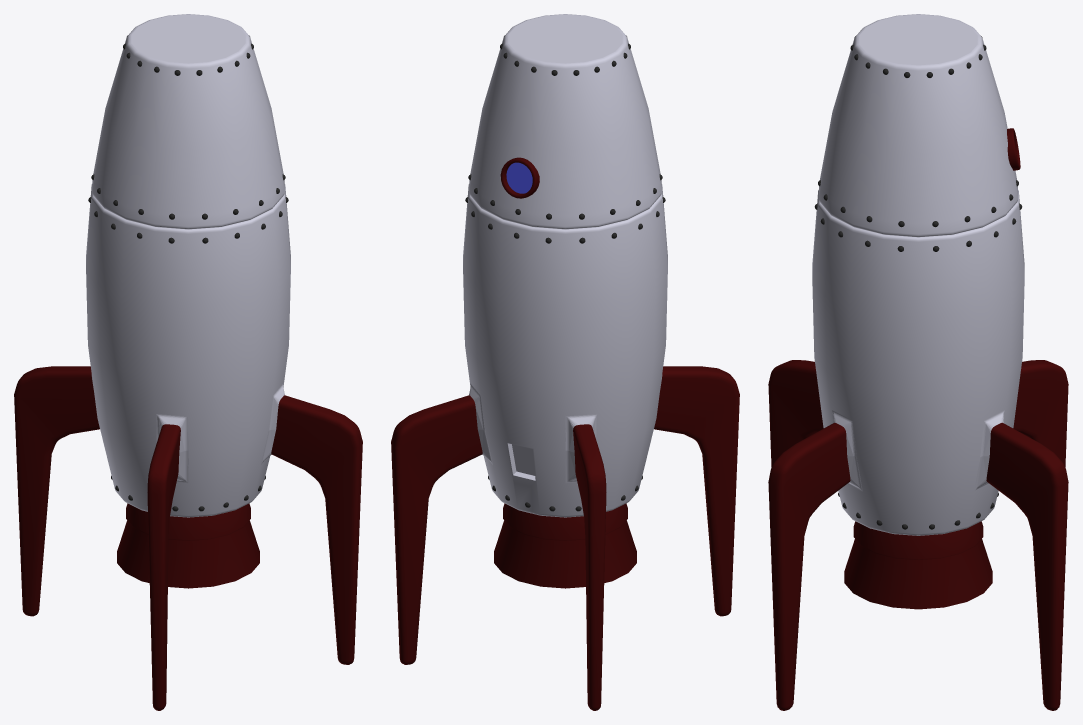
Rendered from Cohete_Tocho.fbx.
3 renders of one model, left to right at view 1: azimuth 30°, elevation 25°; view 2: azimuth 150°, elevation 25°; view 3: azimuth 270°, elevation 25°, orthographic. The views are drawn at different scales.
Visible parts, largest first — view 1: SM_Cohete_Cuerpo_001, SM_Cohete_Cuerpo_002, SM_Patitas_Cohete_001, SM_Eyector_Cohete_001, SM_Patitas_Cohete_Enganches_001; view 2: SM_Cohete_Cuerpo_001, SM_Cohete_Cuerpo_002, SM_Patitas_Cohete_001, SM_Eyector_Cohete_001, SM_Patitas_Cohete_Enganches_001, SM_Ventana_Marco_001, SM_Ventana_Cristal; view 3: SM_Cohete_Cuerpo_001, SM_Cohete_Cuerpo_002, SM_Patitas_Cohete_001, SM_Eyector_Cohete_001, SM_Patitas_Cohete_Enganches_001.
Boxes of the visible parts, x1,y1,x2,y2 form: SM_Cohete_Cuerpo_001: (86, 184, 290, 517); SM_Cohete_Cuerpo_002: (92, 14, 284, 229); SM_Patitas_Cohete_001: (14, 366, 362, 710); SM_Eyector_Cohete_001: (117, 503, 259, 588); SM_Patitas_Cohete_Enganches_001: (91, 375, 284, 483); SM_Cohete_Cuerpo_001: (463, 184, 667, 517); SM_Cohete_Cuerpo_002: (469, 14, 661, 229); SM_Patitas_Cohete_001: (391, 366, 739, 710); SM_Eyector_Cohete_001: (494, 503, 636, 588); SM_Patitas_Cohete_Enganches_001: (469, 375, 662, 482); SM_Ventana_Marco_001: (500, 157, 539, 198); SM_Ventana_Cristal: (506, 162, 532, 193); SM_Cohete_Cuerpo_001: (812, 190, 1024, 535); SM_Cohete_Cuerpo_002: (819, 14, 1017, 237); SM_Patitas_Cohete_001: (768, 360, 1068, 710); SM_Eyector_Cohete_001: (844, 521, 992, 609); SM_Patitas_Cohete_Enganches_001: (832, 410, 1004, 491).
Bounding box in the file's own units: 385 × 1031 × 450.
